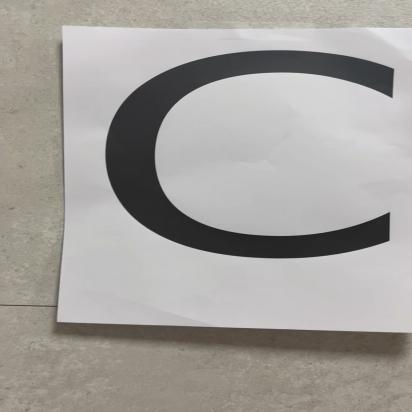seat: (76, 26, 412, 335)
